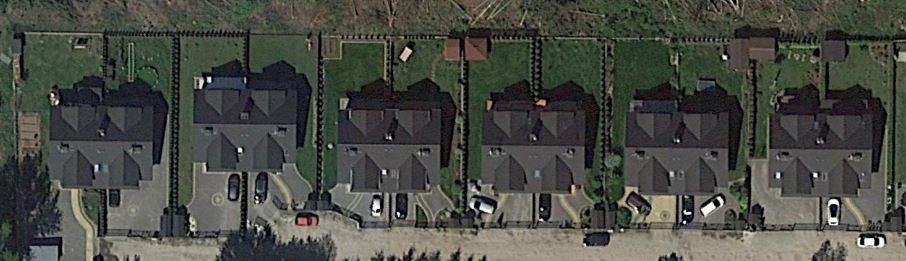terrace house: (758, 95, 892, 213), (39, 85, 165, 202), (617, 87, 740, 206), (187, 66, 310, 180), (336, 91, 454, 203), (475, 97, 597, 203)
